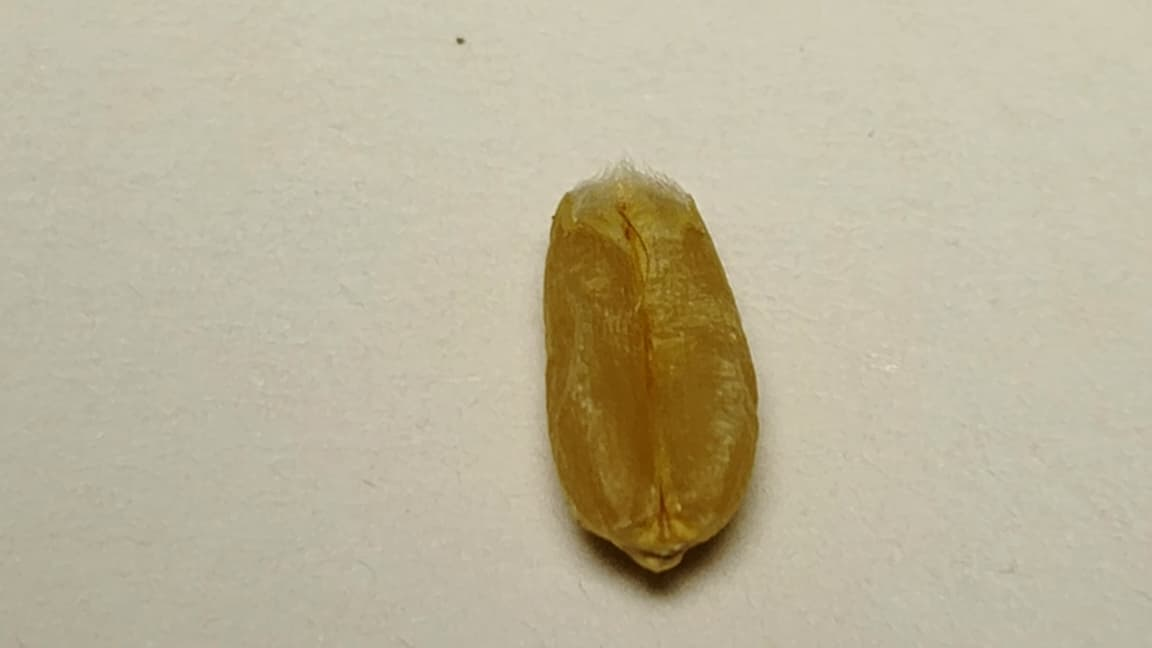healthy: (545, 162, 757, 569)
